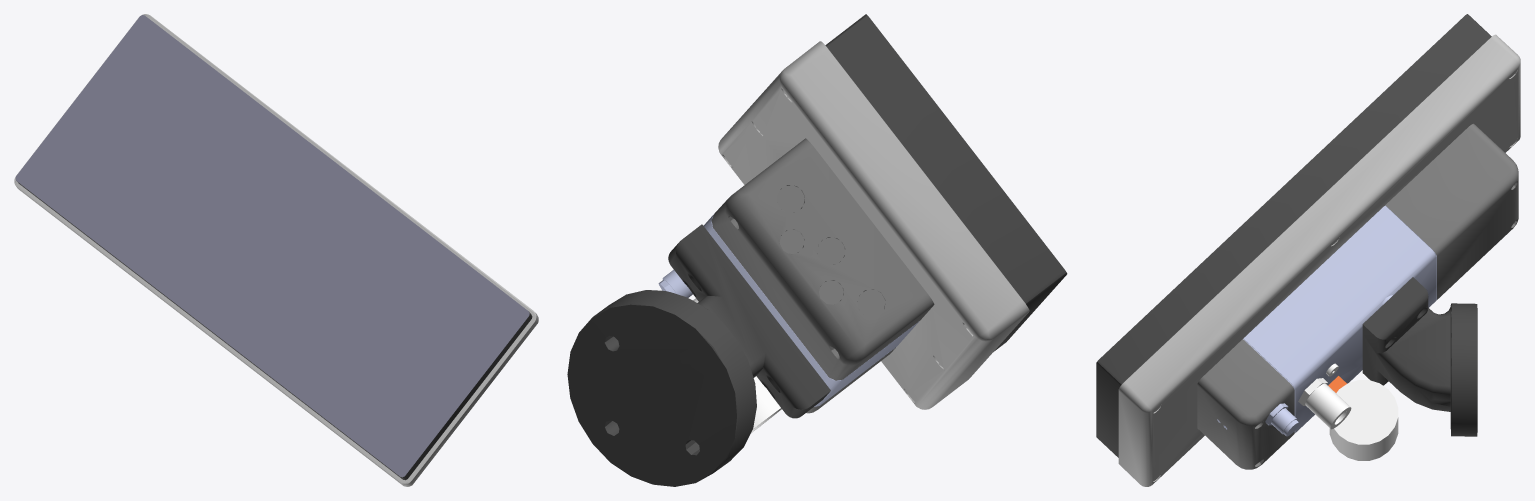
The model's file is tcp.obj.
3 views of the same model, side by side, from view 1: azimuth 30°, elevation 25°; view 2: azimuth 150°, elevation 25°; view 3: azimuth 270°, elevation 25° (orthographic). The views are drawn at different scales.
Parts seen in each view (by area): view 1: tcp; view 2: tcp; view 3: tcp.
Part boxes in pixels (x1,y1,x2,y2): tcp: (14, 14, 538, 486); tcp: (567, 14, 1067, 486); tcp: (1096, 14, 1520, 486).
Bounding box in the file's own units: 0.2557 × 0.2557 × 0.2382.
